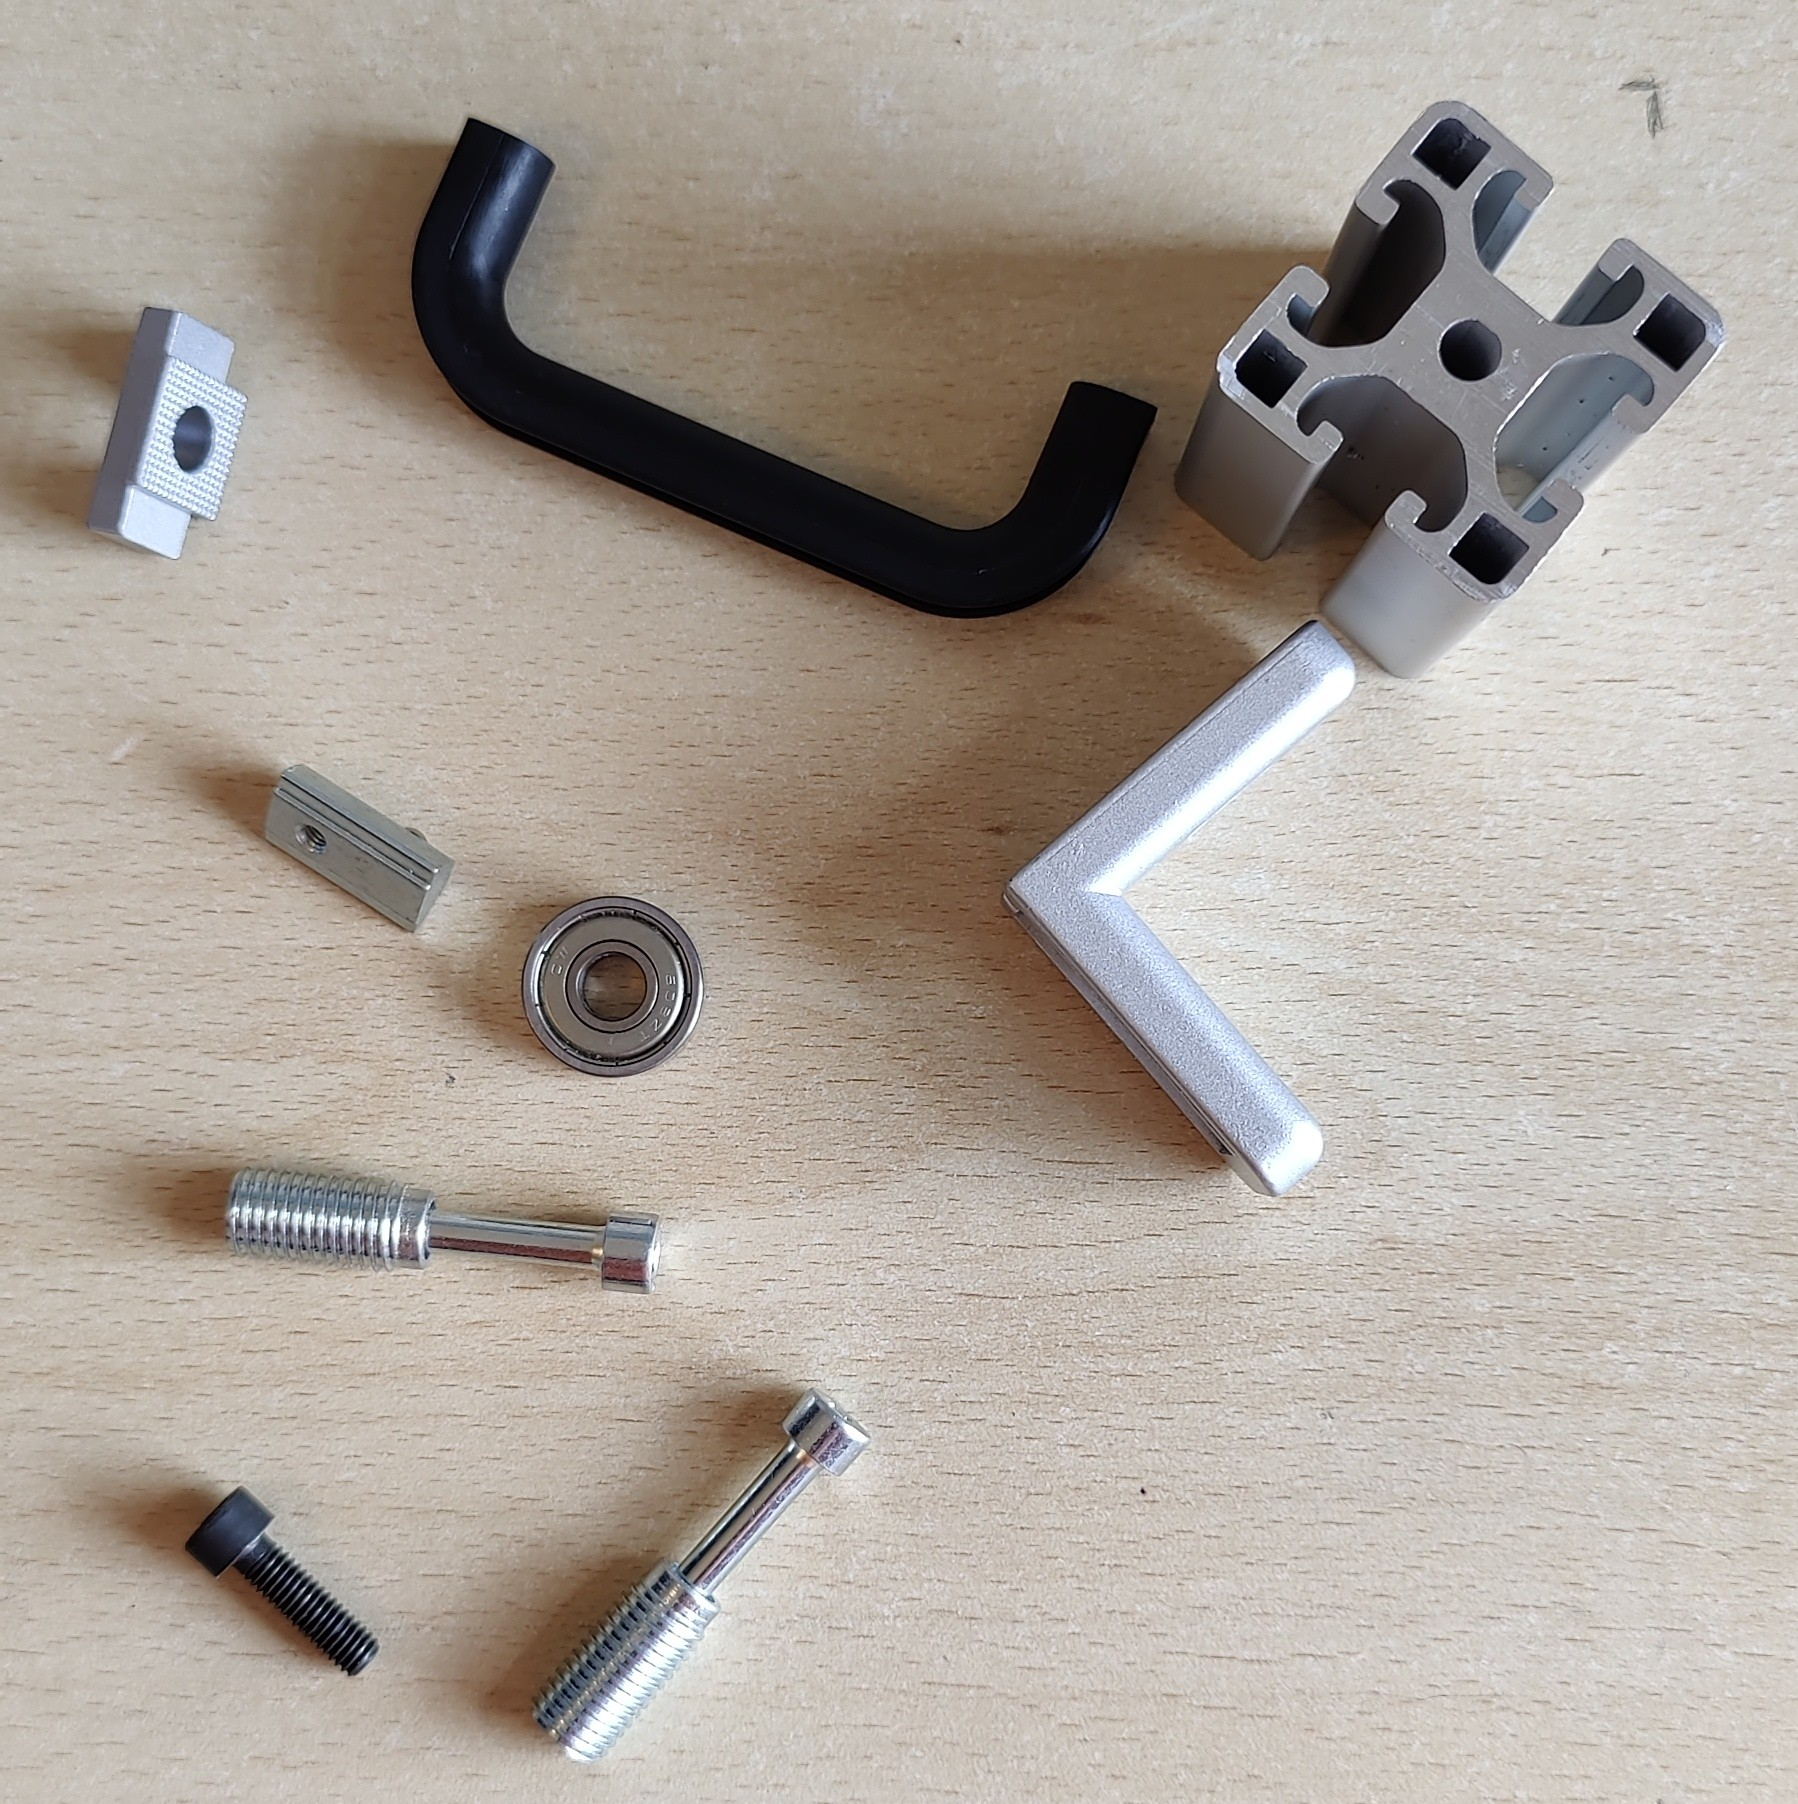Aluminium Extension: (1172, 97, 1726, 681)
Ball Bearing: (519, 894, 706, 1080)
Multiwinkel: (998, 617, 1362, 1200)
Pull Handle: (407, 112, 1158, 621)
Shoulder Socket Head Cap Screw: (529, 1386, 874, 1768), (219, 1162, 665, 1299)
Socket Head Cap Screw: (181, 1476, 382, 1681)
T Nut Square: (82, 301, 250, 563)
T Spring Nut: (262, 757, 458, 937)
